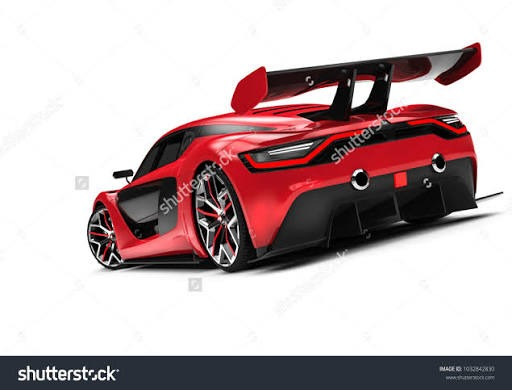car: (82, 49, 483, 267)
